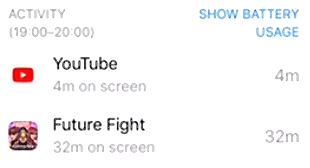activity: (5, 6, 105, 44)
app: (6, 51, 306, 100), (4, 112, 304, 161)
